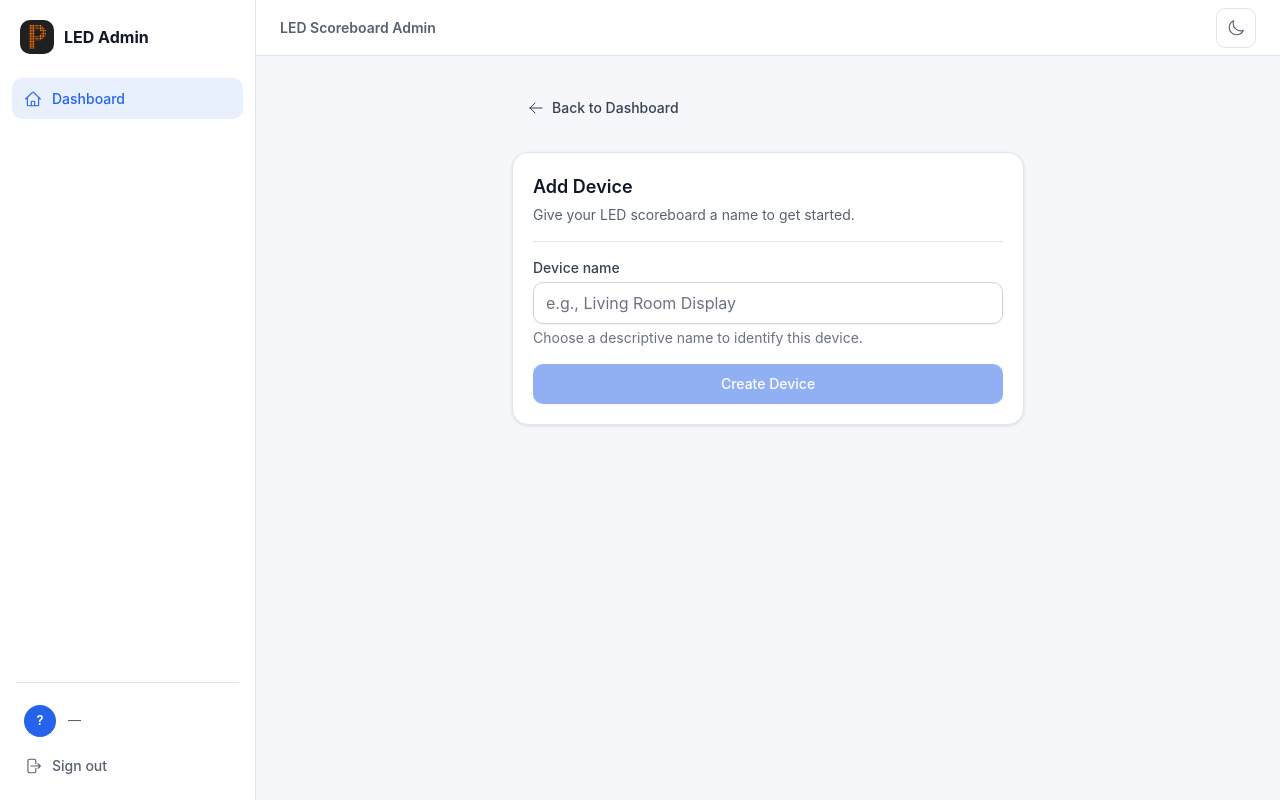
Test case: NewDevice page › requires authentication before creating device
Type "Lobby Display" into the field labelled "Device name" at (768, 303), box [533,282,1003,324]
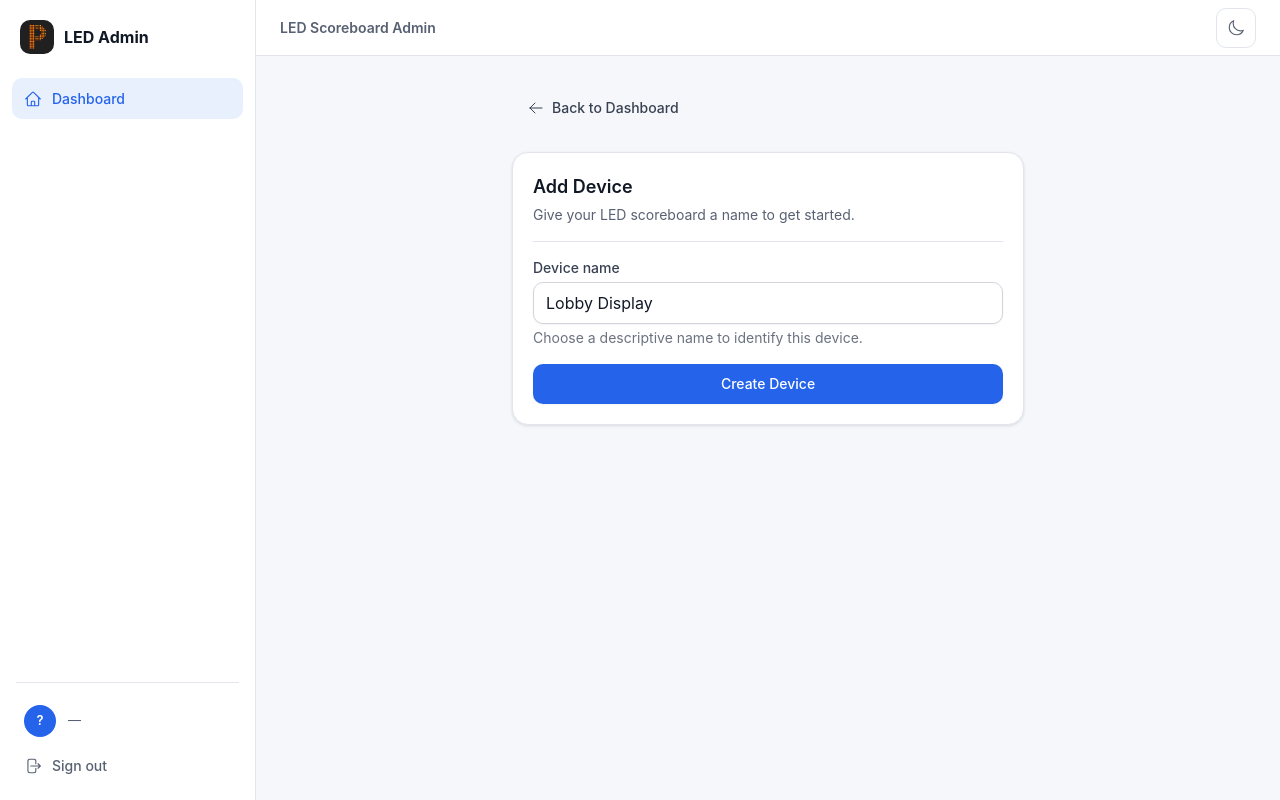
Click the button "Create Device" at (768, 384), box [533,364,1003,404]
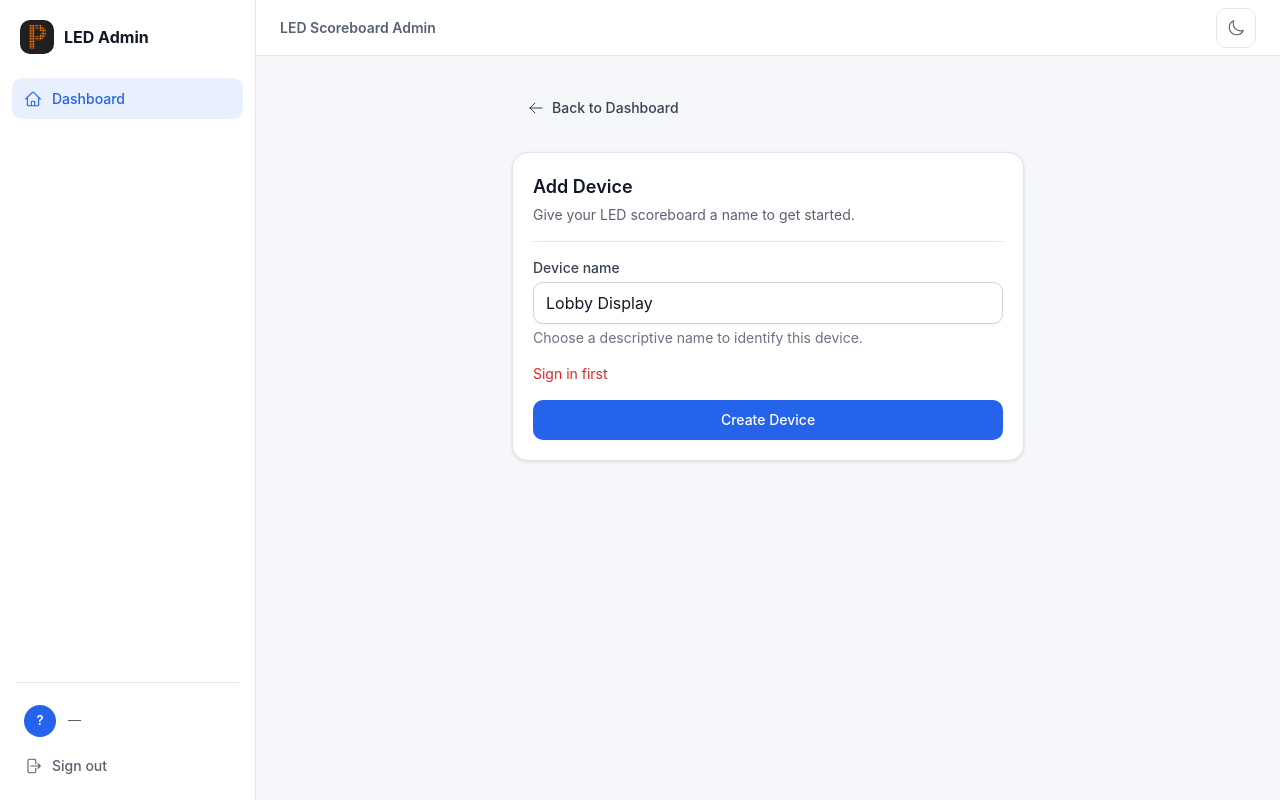
Expected: the text "Sign in first" is shown, [533,365,608,382]
